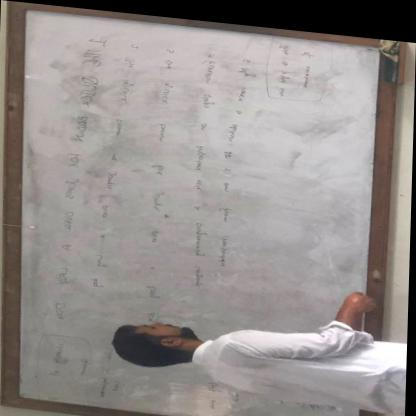Handwritten text: (35, 42, 114, 328), (84, 48, 144, 292), (132, 50, 183, 321), (218, 60, 262, 271), (187, 50, 219, 285)
Lecturer: (112, 291, 396, 409)
Whiteboard: (8, 6, 379, 416)
